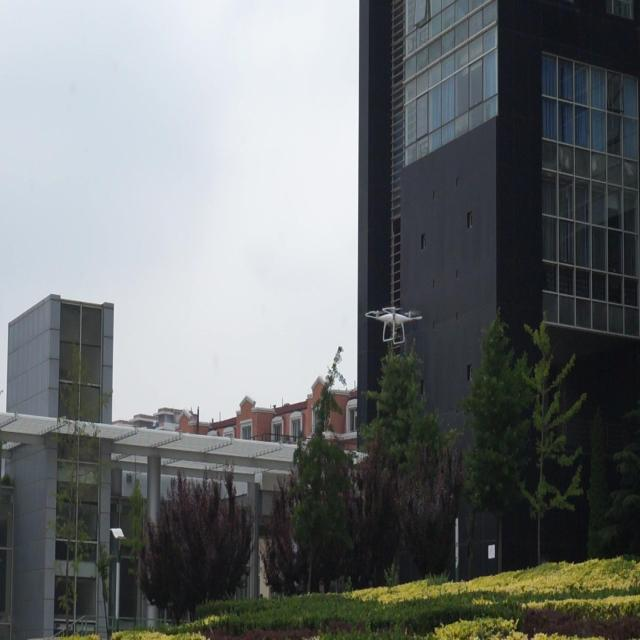drone: (364, 304, 424, 349)
